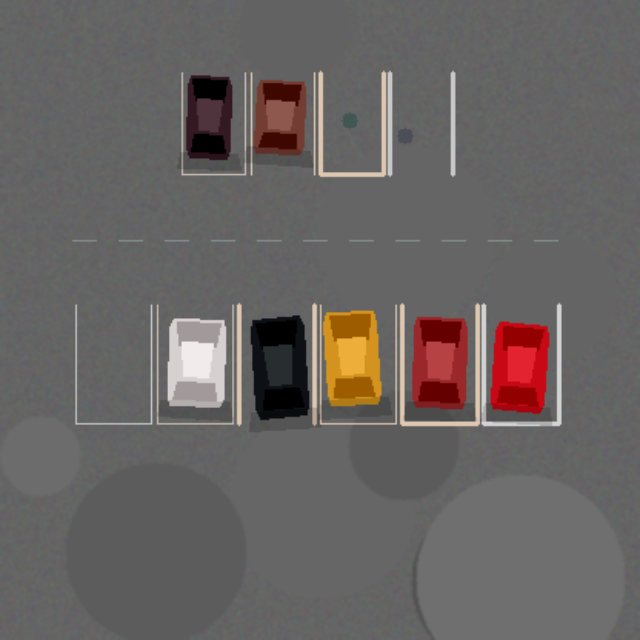space-empty: (75, 305, 151, 423), (320, 72, 383, 174), (389, 72, 452, 174)
space-occupied: (238, 305, 314, 423), (157, 305, 232, 423), (320, 305, 395, 423), (402, 305, 477, 423), (483, 305, 558, 423), (182, 72, 245, 174), (251, 72, 314, 174)
